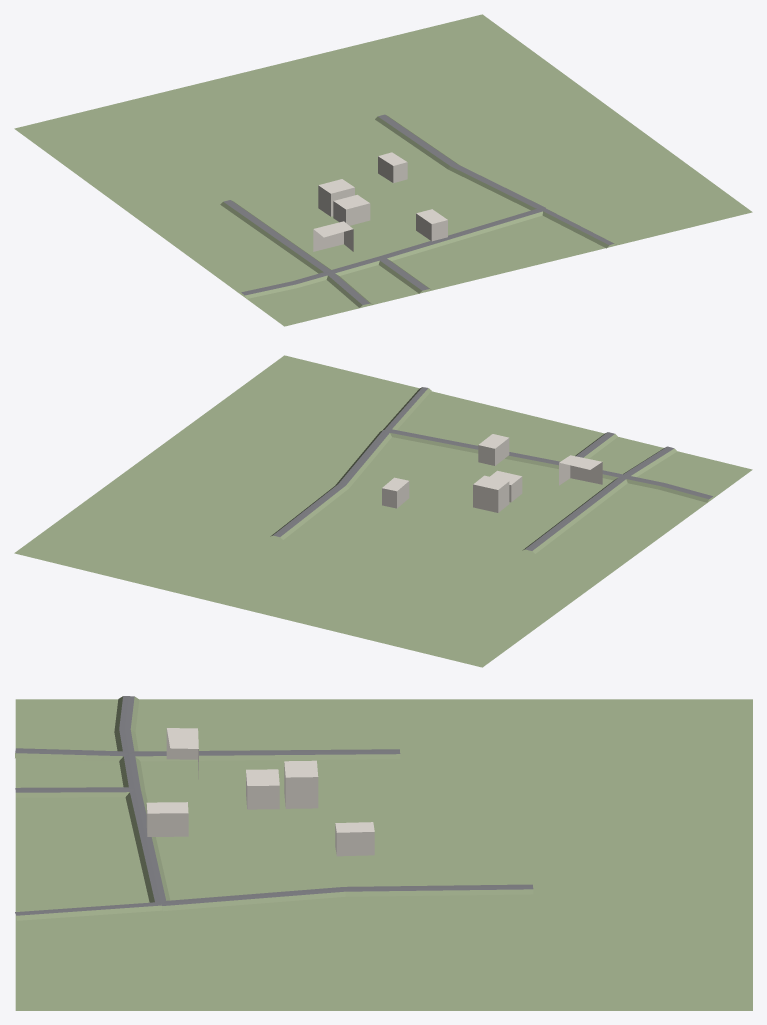
File: dhamrai_chunk_x-2_z1.glb
The picture shows the model from 3 angles, top to bottom: view 1: azimuth 30°, elevation 25°; view 2: azimuth 150°, elevation 25°; view 3: azimuth 270°, elevation 25°; orthographic projection. The views are drawn at different scales.
Parts seen in each view (by area): view 1: terrain, roads, buildings, embankments; view 2: terrain, buildings, roads, embankments; view 3: terrain, roads, embankments, buildings.
Boxes of the visible parts, x1,y1,x2,y2 form: terrain: [14, 14, 752, 326]; roads: [223, 114, 613, 304]; buildings: [313, 152, 447, 251]; embankments: [220, 115, 616, 307]; terrain: [14, 355, 752, 667]; buildings: [382, 434, 602, 512]; roads: [273, 387, 712, 550]; embankments: [270, 387, 708, 553]; terrain: [15, 699, 752, 1010]; roads: [15, 696, 533, 915]; embankments: [15, 696, 533, 920]; buildings: [146, 728, 374, 856].
Size of the model in its own units: 256 by 13.23 by 257.
